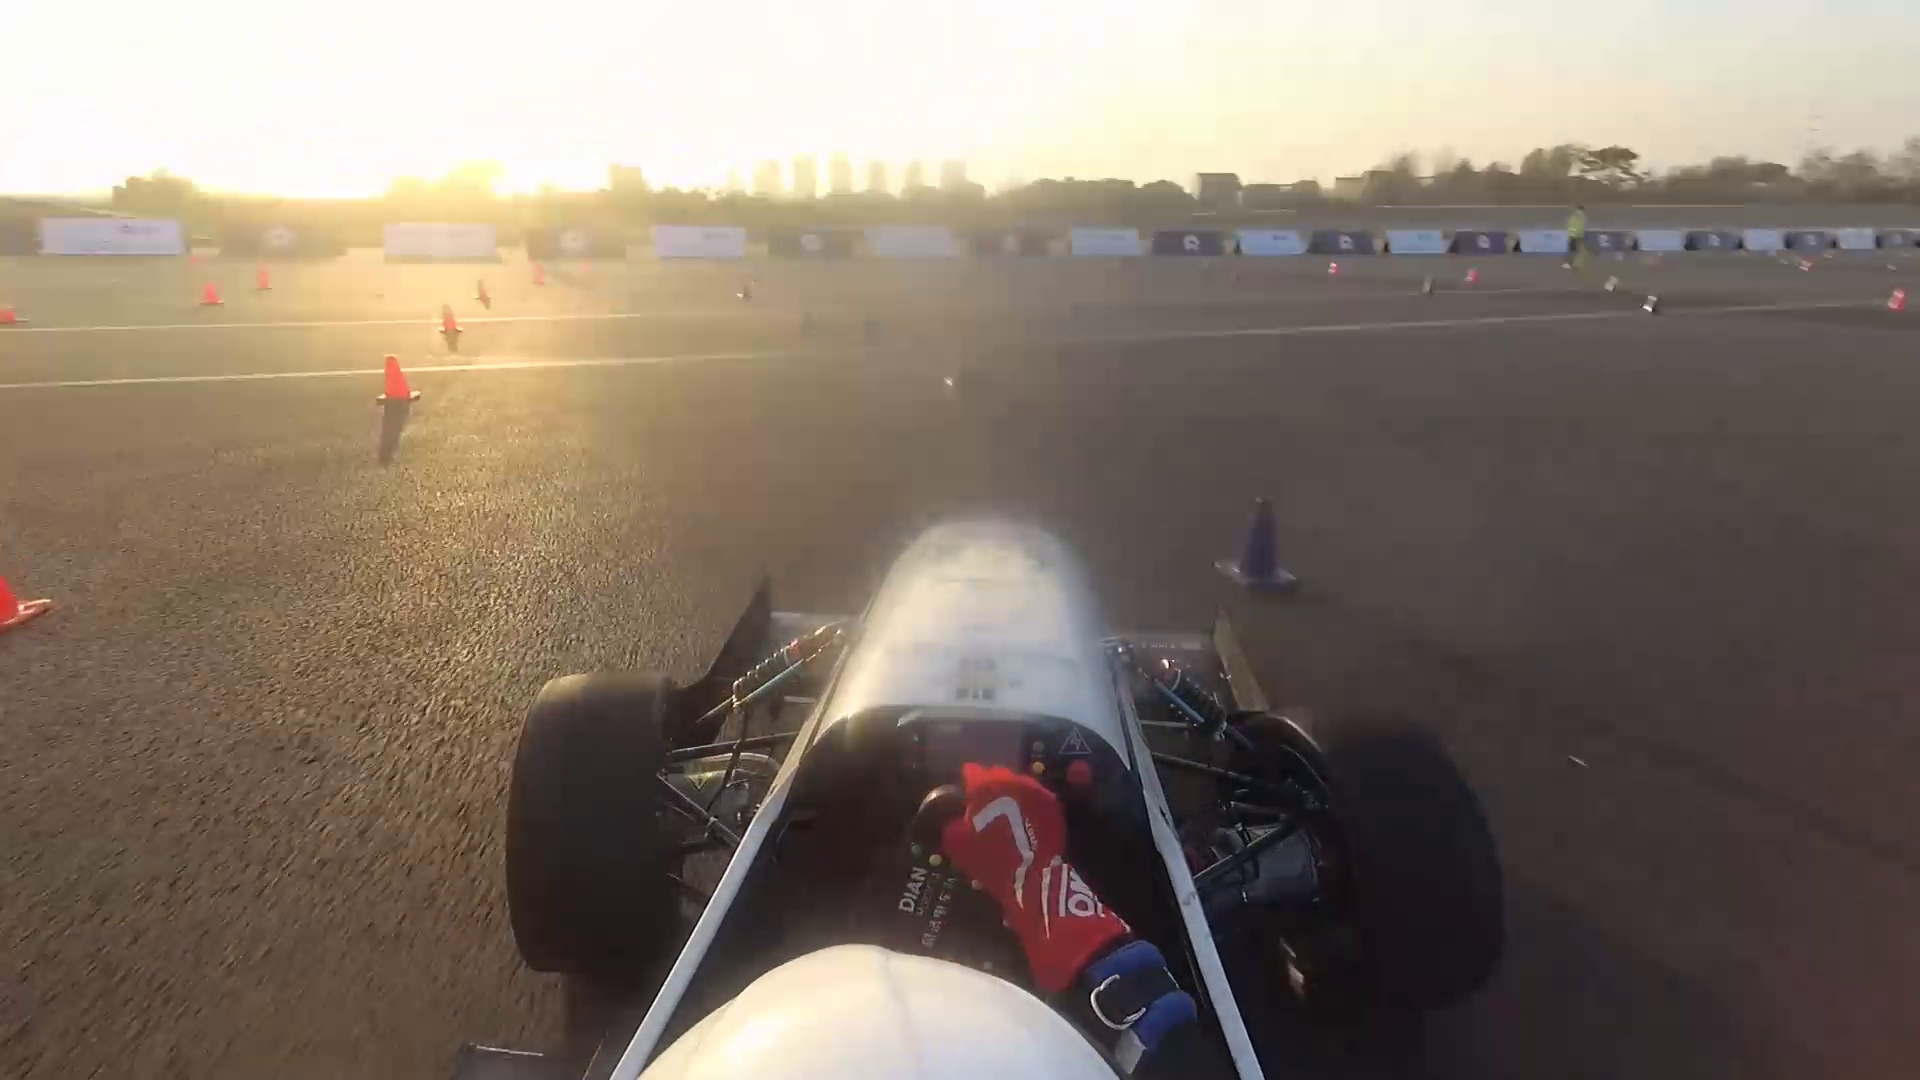blue_cone: (1225, 495, 1300, 593), (1640, 294, 1663, 313), (1416, 277, 1435, 297), (1602, 276, 1619, 294), (735, 281, 749, 298)
red_cone: (371, 356, 419, 405), (436, 302, 458, 332), (200, 284, 223, 309), (255, 266, 276, 291), (473, 278, 492, 305), (1887, 285, 1907, 309), (1, 303, 18, 323), (1465, 266, 1478, 281), (1327, 264, 1337, 274)
